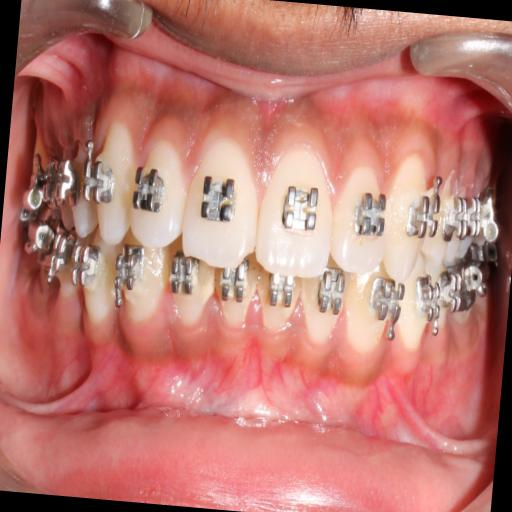correct_brace: (196, 168, 240, 232), (276, 180, 322, 241), (348, 184, 390, 246), (132, 164, 170, 218)
incorrect_brace: (328, 156, 395, 278), (126, 134, 190, 250)
